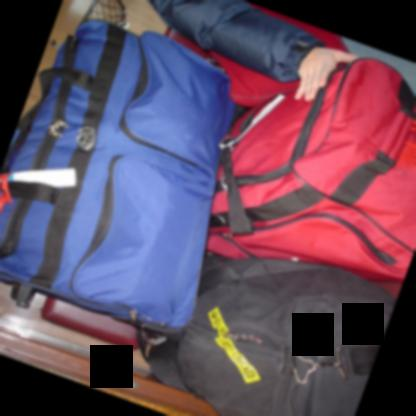suitcase: (0, 16, 228, 334), (171, 253, 397, 416)
